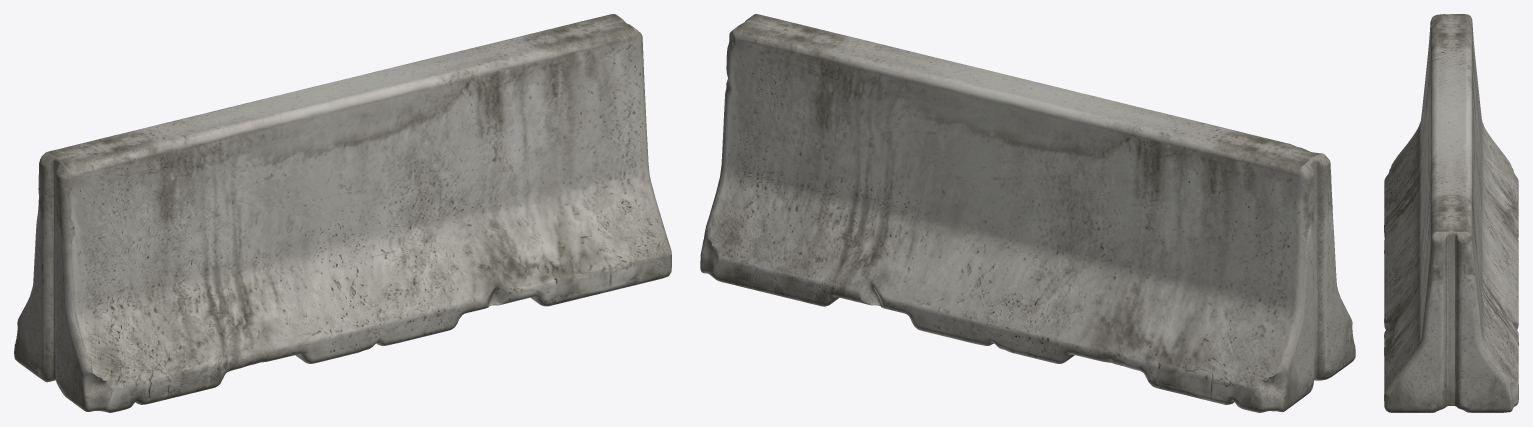
Rendered from barriere.glb.
3 renders of one model, left to right at view 1: azimuth 30°, elevation 25°; view 2: azimuth 150°, elevation 25°; view 3: azimuth 270°, elevation 25°, orthographic. The views are drawn at different scales.
Bounding box in the file's own units: 1.9 × 0.7142 × 0.4827.
1 material, 1 textured.
